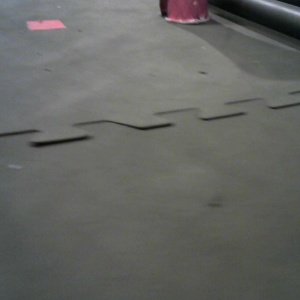Right: (243, 1, 300, 42)
